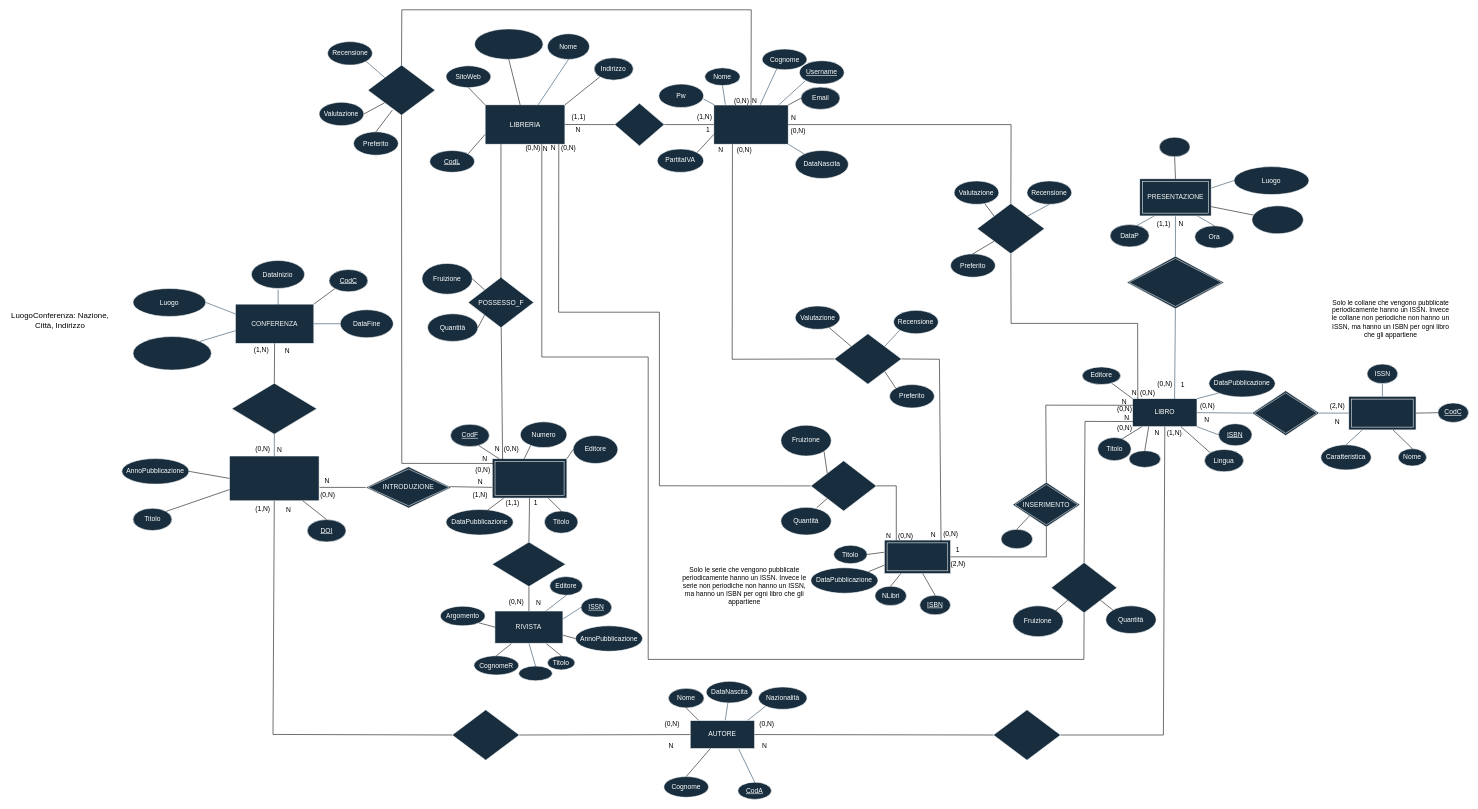
Image size: 1478x809. Some labels were removed from this diagram. The shapes that lost their labels are listed below. From the top down, each one's box as (x1, y1, x2, y2) in pixels, then its label:
(474, 28, 543, 59): NumeroTelefonico
(367, 64, 435, 115): PREFERITI_F
(614, 103, 664, 146): GESTIONE
(713, 104, 788, 144): UTENTE
(1159, 137, 1190, 157): CodP
(977, 203, 1044, 254): PREFERITI_L
(1251, 205, 1303, 234): Struttura
(1126, 256, 1224, 309): PARTECIPAZIONE
(132, 336, 211, 370): StrutturaOrganizzatrice
(834, 333, 901, 384): PREFERITI_S
(231, 383, 317, 434): ESPOSIZIONE
(1251, 390, 1319, 436): APPARTENENZA
(1348, 396, 1416, 430): COLLANA
(229, 455, 319, 501): ARTICOLO_SCIENTIFICO
(492, 458, 567, 498): FASCICOLO
(1128, 450, 1161, 467): Genere
(810, 460, 876, 511): POSSESSO_S
(884, 540, 951, 574): SERIE
(1000, 529, 1033, 549): Ordine
(492, 542, 566, 587): COMPOSIZIONE
(1051, 562, 1117, 613): POSSESSO_L
(518, 665, 552, 681): NomeR
(452, 709, 519, 760): SCRITTUTA_A
(993, 709, 1061, 760): SCRITTUTA_L
